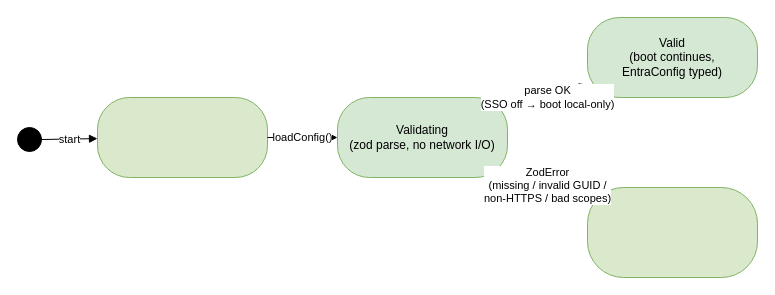
Image size: 775x295. Some labels were removed from this diagram. The centre of each missing label's shape, as x and y in pixels:
Invalid (field-level FATAL log, secret ***REDACTED***) → process.exit(1): pixel 672 232
Missing (SSO_ENABLED=true, required vars absent): pixel 182 137
